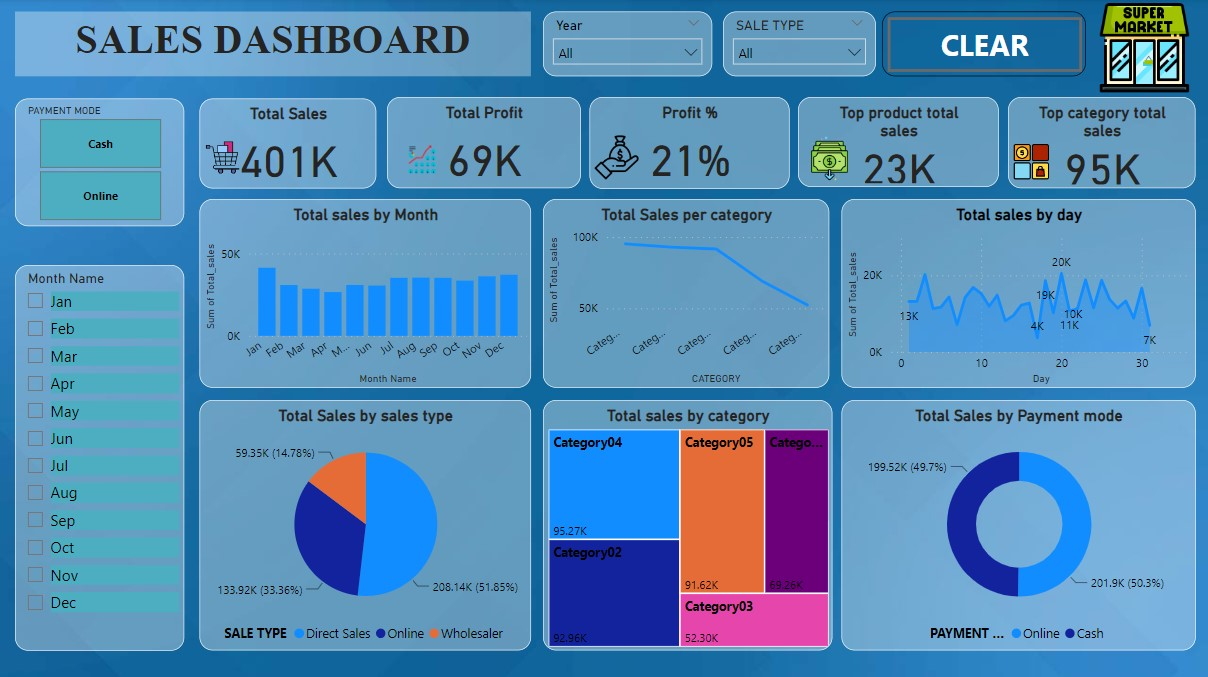

What the dashboard file says about the page in this screenshot:
{"tool":"powerbi","page":{"name":"Page 1","canvas":[1280,720],"ordinal":0},"visuals":[{"type":"slicer","fields":{"Values":["InputData.Year"]},"box":[575.4,14.3,179.6,68.3],"z":0},{"type":"slicer","fields":{"Values":["InputData.Month Name"]},"box":[15.9,282.9,179.6,408.5],"z":1000},{"type":"slicer","fields":{"Values":["InputData.PAYMENT MODE"]},"box":[15.9,106.5,179.6,135.1],"z":2000},{"type":"slicer","fields":{"Values":["InputData.SALE TYPE"]},"box":[766.1,14.3,162.1,68.3],"z":3000},{"type":"card","title":"Total Sales","fields":{"Values":["Sum(InputData.Total selling Value)"]},"box":[211.4,106.5,187.5,95.4],"z":4000},{"type":"card","title":"Top product total sales","fields":{"Values":["Sum(InputData.Total selling Value)"]},"box":[845.6,104.9,213,95.4],"z":5000},{"type":"card","title":"Profit %","fields":{"Values":["InputData.profit %"]},"box":[624,105,212,97],"z":6000},{"type":"card","title":"Total Profit","fields":{"Values":["InputData.profit"]},"box":[410.1,104.9,205,97],"z":7000},{"type":"card","title":"Top category total sales","fields":{"Values":["Sum(InputData.Total selling Value)"]},"box":[1068.1,104.9,198.7,97],"z":8000},{"type":"columnChart","title":"Total sales by Month","fields":{"Y":["Sum(InputData.Total selling Value)"],"Category":["InputData.Month Name"]},"box":[211.4,213,351.3,200.3],"z":9000},{"type":"lineChart","title":"Total Sales per category","fields":{"Category":["MasterData.CATEGORY"],"Y":["Sum(InputData.Total selling Value)"]},"box":[575.4,213,303.6,200.3],"z":10000},{"type":"areaChart","title":"Total sales by day","fields":{"Category":["InputData.Day"],"Y":["Sum(InputData.Total selling Value)"]},"box":[891.7,213,375.1,200.3],"z":11000},{"type":"pieChart","title":"Total Sales by sales type","fields":{"Category":["InputData.SALE TYPE"],"Y":["Sum(InputData.Total selling Value)"]},"box":[211.4,426,351.3,265.4],"z":12000},{"type":"treemap","title":"Total sales by category","fields":{"Group":["MasterData.CATEGORY"],"Values":["Sum(InputData.Total selling Value)"]},"box":[575.4,426,306.8,265.4],"z":13000},{"type":"donutChart","title":"Total Sales by Payment mode","fields":{"Category":["InputData.PAYMENT MODE"],"Y":["Sum(InputData.Total selling Value)"]},"box":[891.7,426,375.1,265.4],"z":14000},{"type":"actionButton","box":[934.6,14.3,216.2,68.3],"z":15000},{"type":"textbox","box":[15.9,14.3,546.8,68.3],"z":16000},{"type":"image","box":[624.6,138.3,57.2,62],"z":17000},{"type":"image","box":[422.8,151,47.7,39.7],"z":18000},{"type":"image","box":[211.4,143,49.3,52.5],"z":19000},{"type":"image","box":[1158.7,0,108.1,104.9],"z":20000},{"type":"image","box":[850.3,141.5,57.2,57.2],"z":21000},{"type":"image","box":[1068.1,146.2,49.3,54],"z":22000}]}

Visuals, with their boxes in screenshot pixels (x1, y1, x2, y2), scaled from the page's 1280x720 canvas onto the 1208x677 screenshot:
slicer - InputData.Year: [x1=543, y1=13, x2=713, y2=78]
slicer - InputData.Month Name: [x1=15, y1=266, x2=185, y2=650]
slicer - InputData.PAYMENT MODE: [x1=15, y1=100, x2=185, y2=227]
slicer - InputData.SALE TYPE: [x1=723, y1=13, x2=876, y2=78]
"Total Sales" card: [x1=200, y1=100, x2=376, y2=190]
"Top product total sales" card: [x1=798, y1=99, x2=999, y2=188]
"Profit %" card: [x1=589, y1=99, x2=789, y2=190]
"Total Profit" card: [x1=387, y1=99, x2=581, y2=190]
"Top category total sales" card: [x1=1008, y1=99, x2=1196, y2=190]
"Total sales by Month" columnChart: [x1=200, y1=200, x2=531, y2=389]
"Total Sales per category" lineChart: [x1=543, y1=200, x2=830, y2=389]
"Total sales by day" areaChart: [x1=842, y1=200, x2=1196, y2=389]
"Total Sales by sales type" pieChart: [x1=200, y1=401, x2=531, y2=650]
"Total sales by category" treemap: [x1=543, y1=401, x2=833, y2=650]
"Total Sales by Payment mode" donutChart: [x1=842, y1=401, x2=1196, y2=650]
actionButton: [x1=882, y1=13, x2=1086, y2=78]
textbox: [x1=15, y1=13, x2=531, y2=78]
image: [x1=589, y1=130, x2=643, y2=188]
image: [x1=399, y1=142, x2=444, y2=179]
image: [x1=200, y1=134, x2=246, y2=184]
image: [x1=1094, y1=0, x2=1196, y2=99]
image: [x1=802, y1=133, x2=856, y2=187]
image: [x1=1008, y1=137, x2=1055, y2=188]
